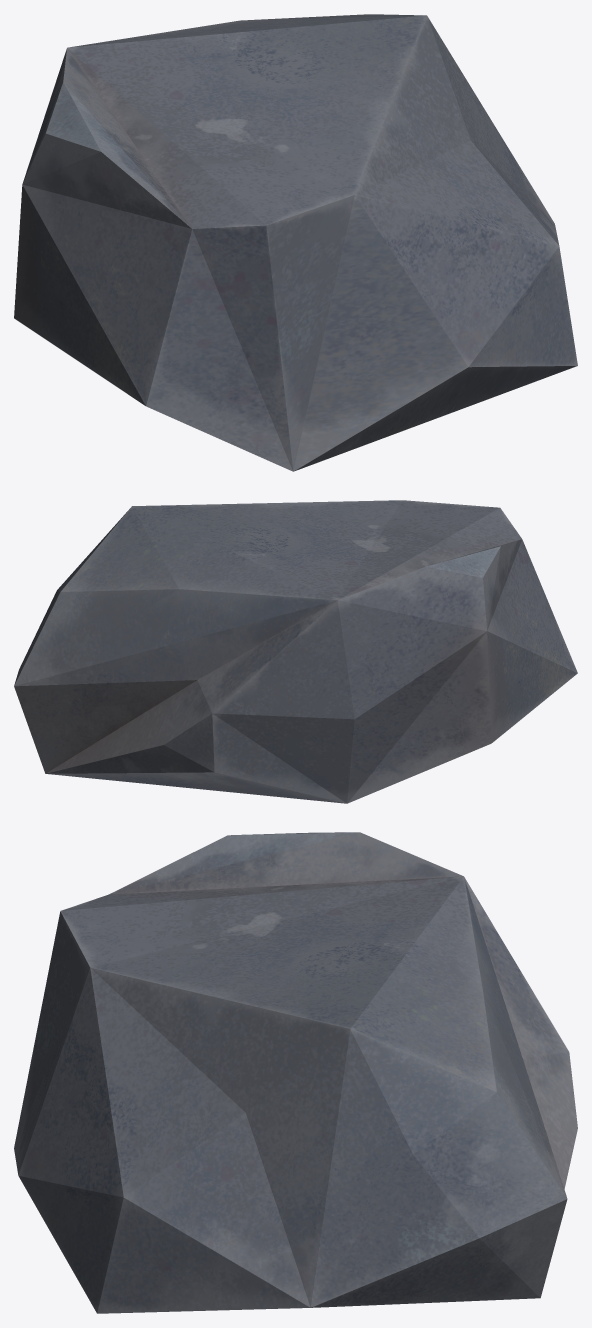
Rendered from stylized_rock_17.fbx.
The picture shows the model from 3 angles, top to bottom: view 1: azimuth 30°, elevation 25°; view 2: azimuth 150°, elevation 25°; view 3: azimuth 270°, elevation 25°; orthographic projection. The views are drawn at different scales.
Parts seen in each view (by area): view 1: stylized_rock_17; view 2: stylized_rock_17; view 3: stylized_rock_17.
Boxes of the visible parts, <box> form: stylized_rock_17: <box>14,14,577,471</box>; stylized_rock_17: <box>14,500,577,803</box>; stylized_rock_17: <box>14,832,577,1313</box>.
Bounding box in the file's own units: 109 × 63.56 × 97.89.
